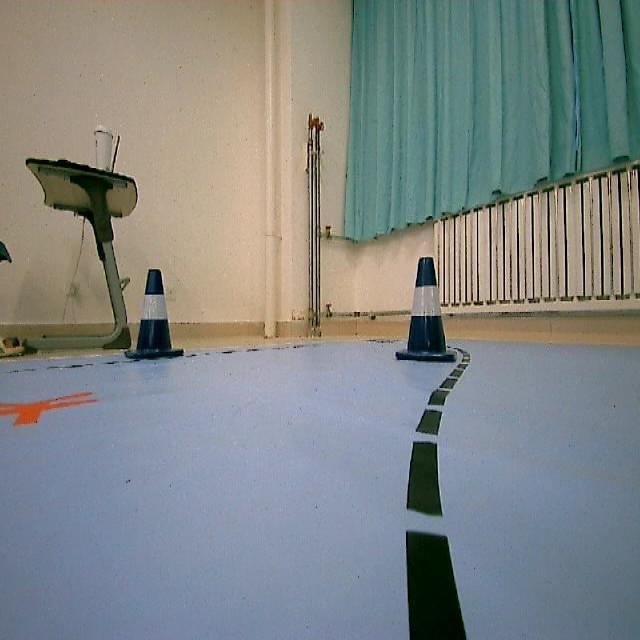obstacle: (402, 248, 448, 364), (131, 266, 179, 360)
